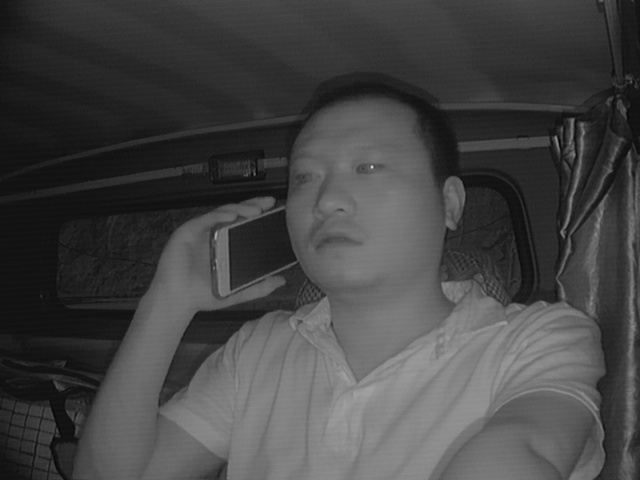hand: (146, 194, 285, 312)
